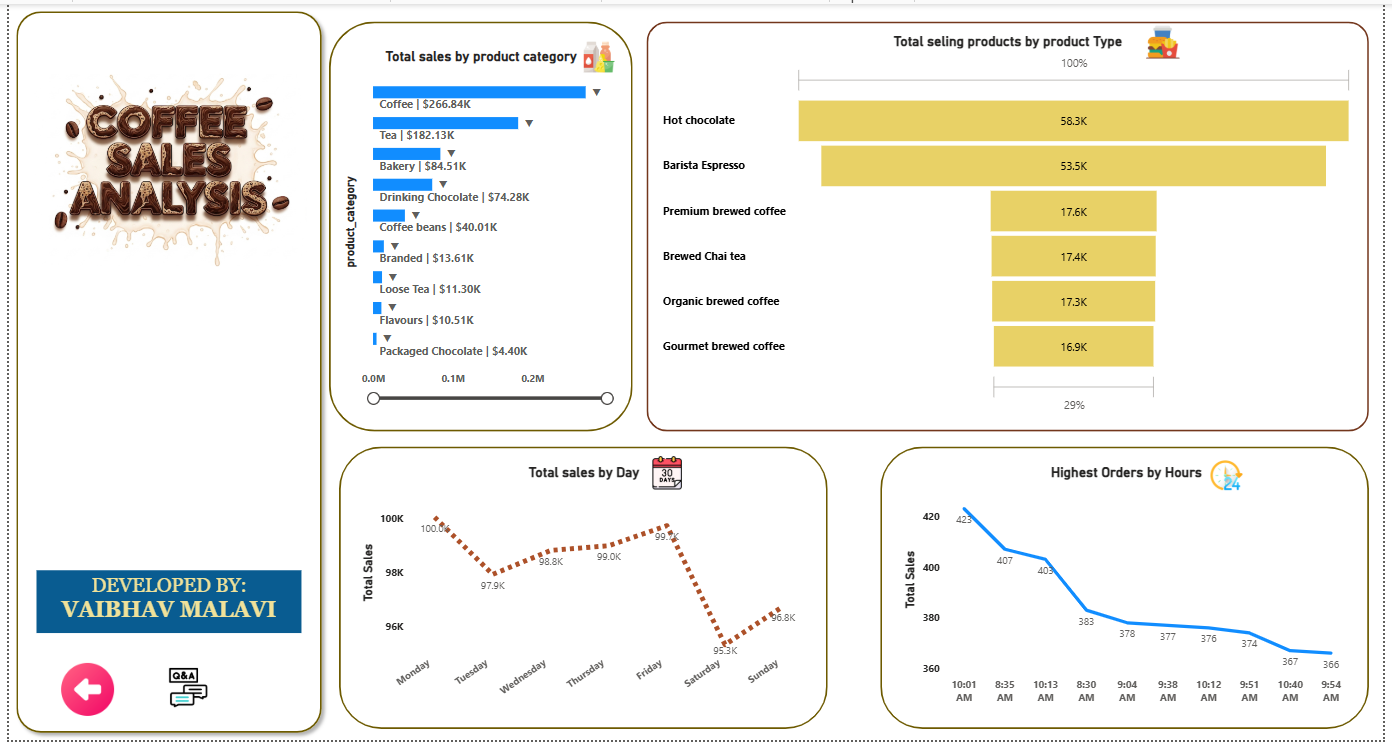

The dashboard page shown, as its layout file describes it:
{"tool":"powerbi","page":{"name":"Page 2","canvas":[1680,900],"ordinal":2},"visuals":[{"type":"shape","box":[0,0,391.3,900],"z":0},{"type":"group","id":"g1","title":"Group 3","box":[403.5,541.1,597.7,345.5],"z":0,"group":"g5"},{"type":"group","id":"g2","title":"Group 3","box":[1065.4,541.1,597.7,345.5],"z":0,"group":"g7"},{"type":"image","box":[22.9,21.4,345.5,363.8],"z":1000},{"type":"group","id":"g3","title":"Group 4","box":[391.3,21.4,371.4,501.4],"z":2000},{"type":"group","id":"g4","title":"Group 2","box":[779.6,21.4,883.5,501.4],"z":3000},{"type":"shape","box":[779.6,21.4,883.5,501.4],"z":3000,"group":"g4"},{"type":"funnel","title":"Total seling products by product Type","fields":{"Y":["coffee_shop_sales.total sales measure"],"Category":["coffee_shop_sales.product_type"]},"box":[794.6,35.2,853.5,472.3],"z":4000,"group":"g4"},{"type":"group","id":"g5","title":"Group 5","box":[403.5,541.1,597.7,345.5],"z":4000},{"type":"lineChart","title":"Highest Orders   by Hours","fields":{"Category":["coffee_shop_sales.Transaction Hour (AM/PM)"],"Y":["coffee_shop_sales.Total orders"]},"box":[1087.7,562.3,556.4,301.1],"z":4001,"group":"g7"},{"type":"lineChart","title":"Total sales  by Day ","fields":{"Category":["date.Day Name"],"Y":["coffee_shop_sales.total sales measure"]},"box":[425.9,562.7,553.7,302.7],"z":4001,"group":"g5"},{"type":"group","id":"g6","title":"Group 1","box":[391.3,21.4,371.4,501.4],"z":4002,"group":"g3"},{"type":"group","id":"g7","title":"Group 5","box":[1065.4,541.1,597.7,345.5],"z":5000},{"type":"image","box":[1365,21.4,91.7,50.4],"z":6000},{"type":"image","box":[1446,551.8,85.6,48.9],"z":7000},{"type":"image","box":[779.6,545.7,50.4,55],"z":8000},{"type":"image","box":[692.4,41.3,58.1,47.4],"z":9000},{"type":"image","box":[22.9,801,146.7,74.9],"z":10000},{"type":"image","box":[169.7,807.1,99.4,58.1],"z":11000},{"type":"textbox","box":[33.6,692.4,324.1,76.4],"z":12000},{"type":"shape","box":[391.3,21.4,371.4,501.4],"z":13000,"group":"g6"},{"type":"shape","box":[403.5,541.1,597.7,345.5],"z":13000,"group":"g1"},{"type":"shape","box":[1065.4,541.1,597.7,345.5],"z":13000,"group":"g2"},{"type":"clusteredBarChart","title":"Total sales by product category","fields":{"Y":["coffee_shop_sales.total sales measure","coffee_shop_sales.placeholder"],"Category":["coffee_shop_sales.product_category"]},"box":[403.2,53.9,347.7,439],"z":14000,"group":"g6"}]}

Visuals, with their boxes in screenshot pixels (x1, y1, x2, y2), scaled from the page's 1680x900 canvas onto the 1392x744 screenshot:
shape: <region>0, 0, 324, 743</region>
"Group 3" group: <region>334, 447, 830, 733</region>
"Group 3" group: <region>883, 447, 1378, 733</region>
image: <region>19, 18, 305, 318</region>
"Group 4" group: <region>324, 18, 632, 432</region>
"Group 2" group: <region>646, 18, 1378, 432</region>
shape: <region>646, 18, 1378, 432</region>
"Total seling products by product Type" funnel: <region>658, 29, 1366, 420</region>
"Group 5" group: <region>334, 447, 830, 733</region>
"Highest Orders   by Hours" lineChart: <region>901, 465, 1362, 714</region>
"Total sales  by Day " lineChart: <region>353, 465, 812, 715</region>
"Group 1" group: <region>324, 18, 632, 432</region>
"Group 5" group: <region>883, 447, 1378, 733</region>
image: <region>1131, 18, 1207, 59</region>
image: <region>1198, 456, 1269, 497</region>
image: <region>646, 451, 688, 497</region>
image: <region>574, 34, 622, 73</region>
image: <region>19, 662, 141, 724</region>
image: <region>141, 667, 223, 715</region>
textbox: <region>28, 572, 296, 636</region>
shape: <region>324, 18, 632, 432</region>
shape: <region>334, 447, 830, 733</region>
shape: <region>883, 447, 1378, 733</region>
"Total sales by product category" clusteredBarChart: <region>334, 45, 622, 407</region>
